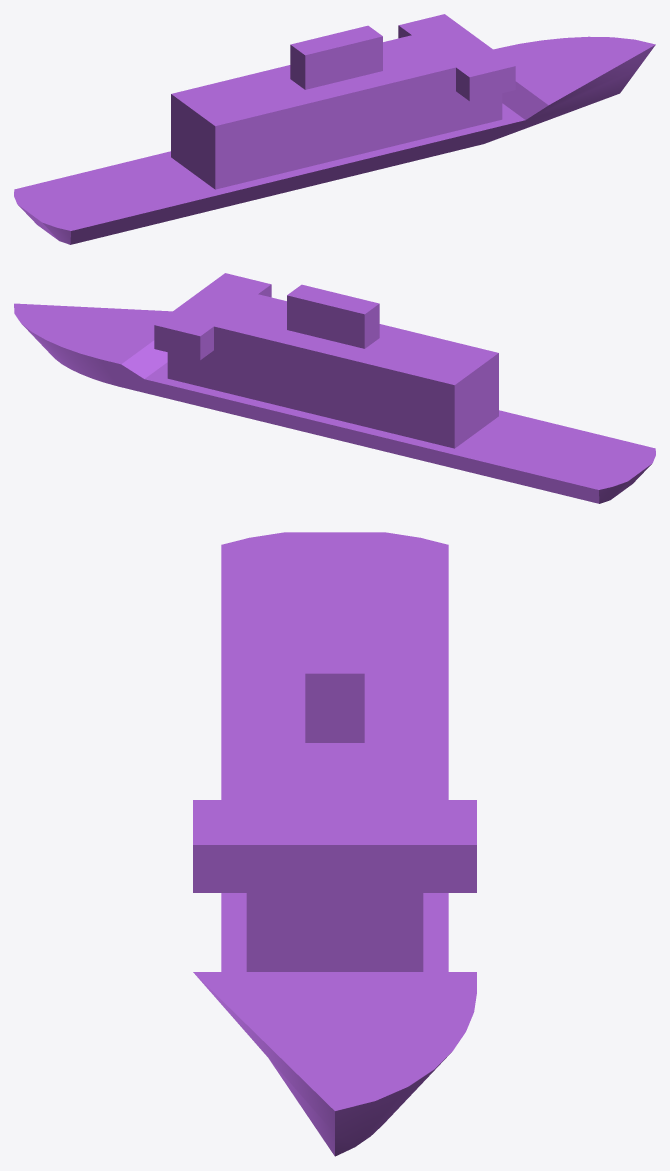
File: ship.gltf
The picture shows the model from 3 angles, top to bottom: view 1: azimuth 30°, elevation 25°; view 2: azimuth 150°, elevation 25°; view 3: azimuth 270°, elevation 25°; orthographic projection. The views are drawn at different scales.
Visible parts, largest first — view 1: ship; view 2: ship; view 3: ship.
Part boxes in pixels (bbox=[...]): ship: bbox=[14, 14, 655, 244]; ship: bbox=[14, 273, 655, 503]; ship: bbox=[193, 532, 476, 1156].
Size of the model in its own units: 81.4 by 15.18 by 16.
